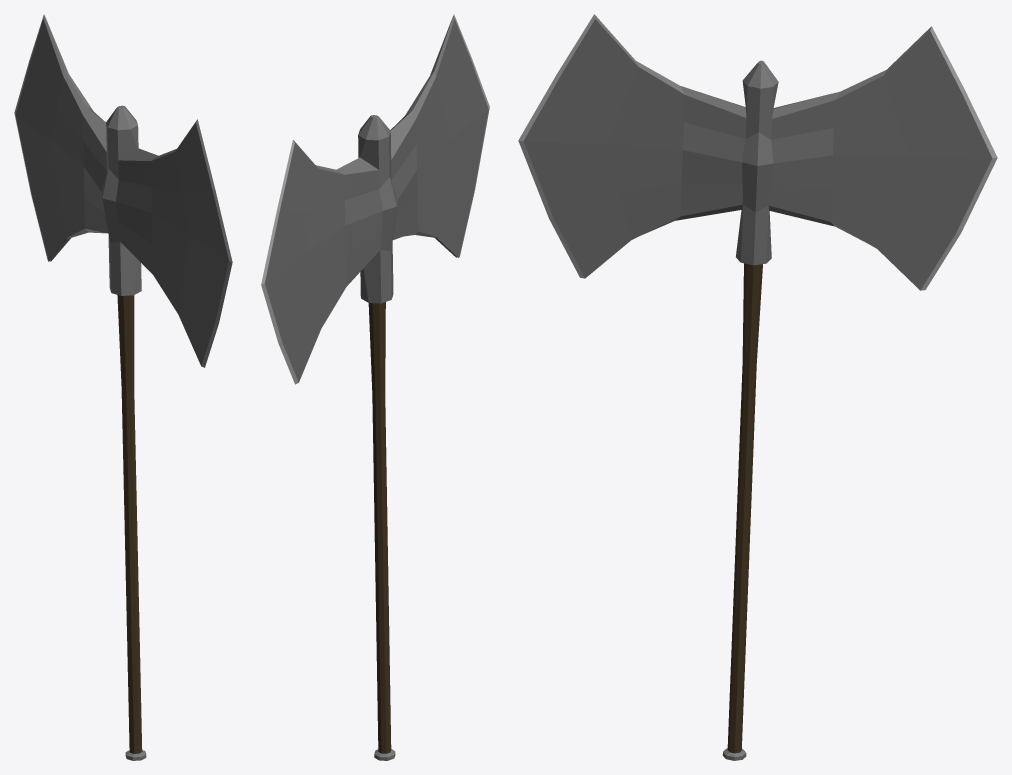
3 views of the same model, side by side, from view 1: azimuth 30°, elevation 25°; view 2: azimuth 150°, elevation 25°; view 3: azimuth 270°, elevation 25° (orthographic). The views are drawn at different scales.
Visible parts, largest first — view 1: ax; view 2: ax; view 3: ax.
Part boxes in pixels (bbox=[...]): ax: bbox=[14, 14, 232, 760]; ax: bbox=[261, 14, 489, 760]; ax: bbox=[518, 14, 997, 760].
Size of the model in its own units: 0.1476 by 2.3 by 1.35.
